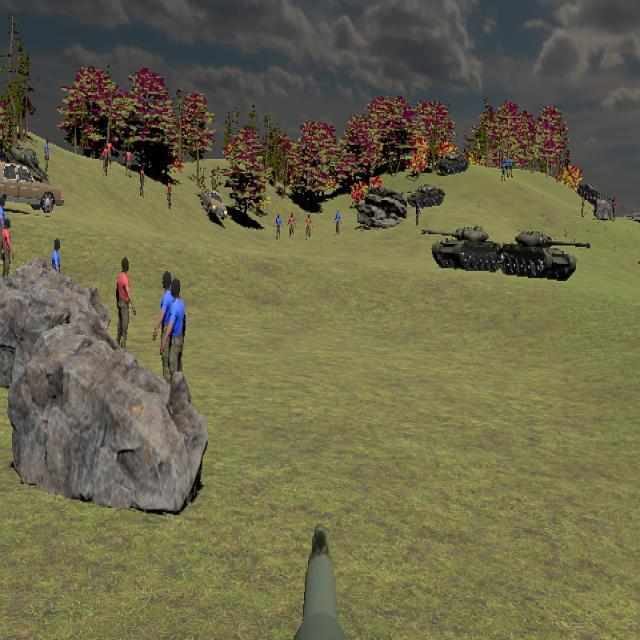Human: (154, 274, 181, 394), (163, 277, 186, 395), (116, 257, 136, 353), (1, 220, 15, 284), (50, 239, 62, 302), (0, 191, 6, 259)
Tank: (499, 229, 591, 282), (420, 224, 504, 272), (402, 183, 447, 208), (436, 152, 470, 175)
car: (0, 162, 65, 214), (201, 190, 228, 219)
